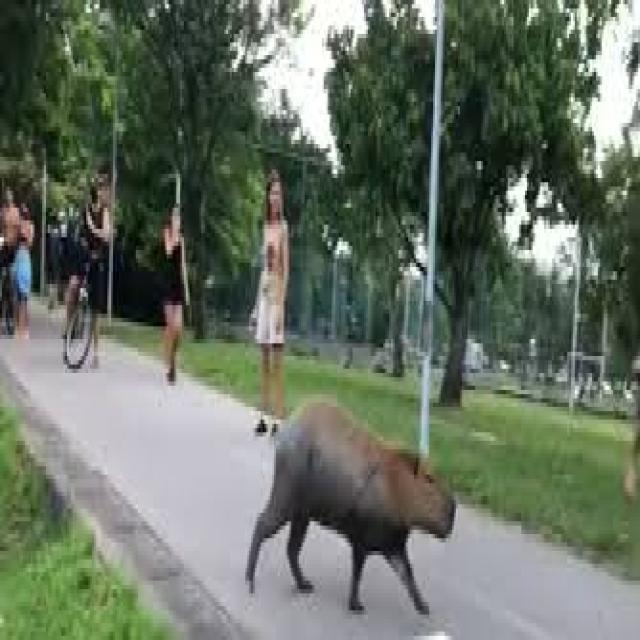capy: (243, 396, 457, 620)
